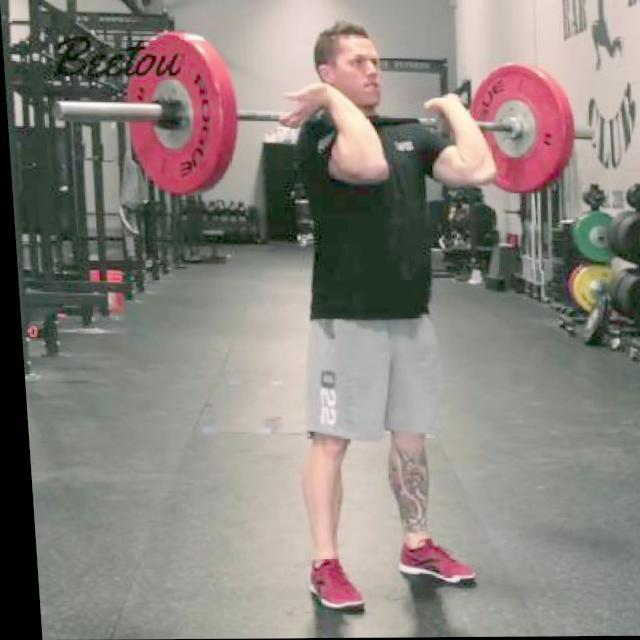barbell: (46, 29, 226, 200)
